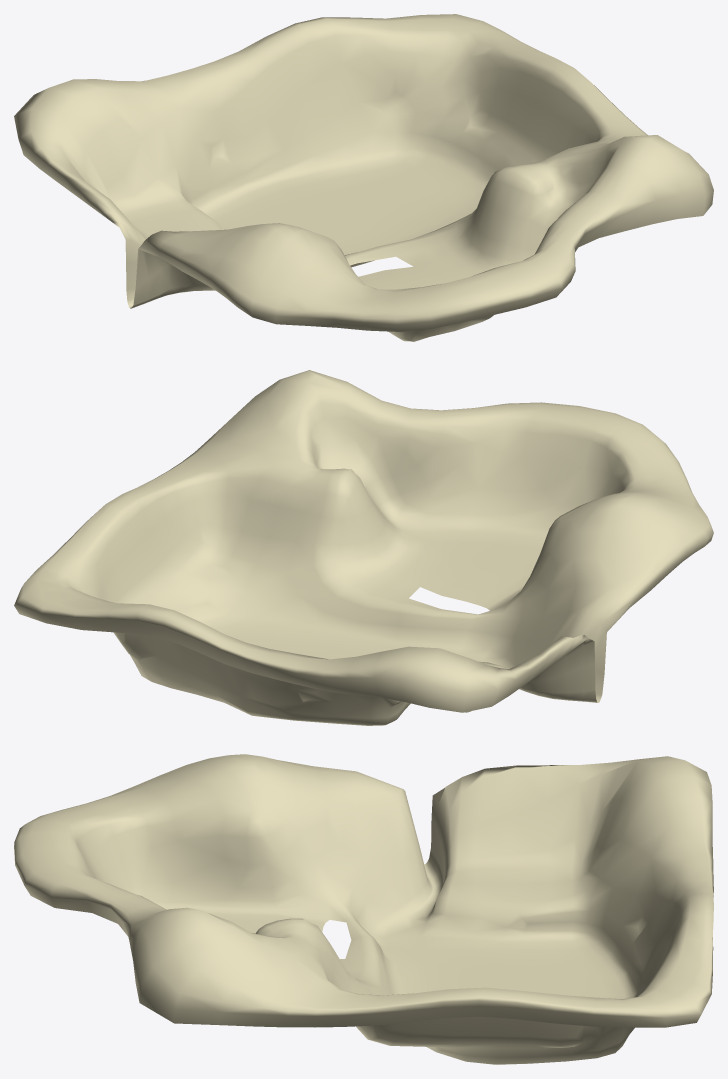
File: terrain_pawsome.fbx
3 renders of one model, top to bottom at view 1: azimuth 30°, elevation 25°; view 2: azimuth 150°, elevation 25°; view 3: azimuth 270°, elevation 25°, orthographic. The views are drawn at different scales.
Visible parts, largest first — view 1: pPlane2; view 2: pPlane2; view 3: pPlane2.
Part boxes in pixels (x1=…): pPlane2: x1=14, y1=14, x2=713, y2=341; pPlane2: x1=14, y1=370, x2=713, y2=725; pPlane2: x1=14, y1=754, x2=713, y2=1064.
Size of the model in its own units: 24.84 by 7.74 by 29.59.
